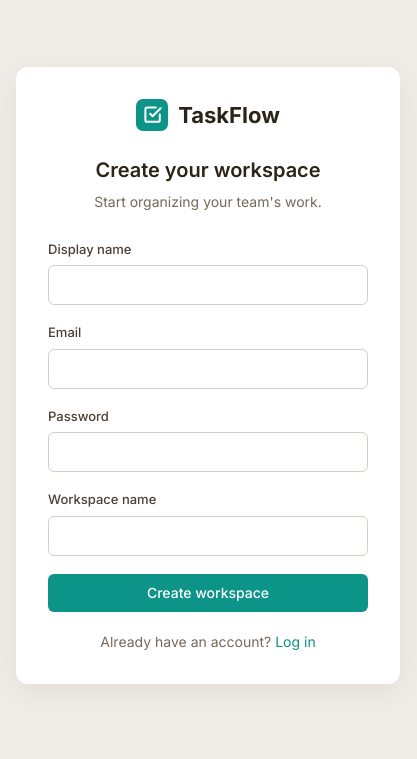
SignupScreen › validates the password length client-side
Type "short" into the password field labelled "Password" at (208, 452), box [48,432,368,472]
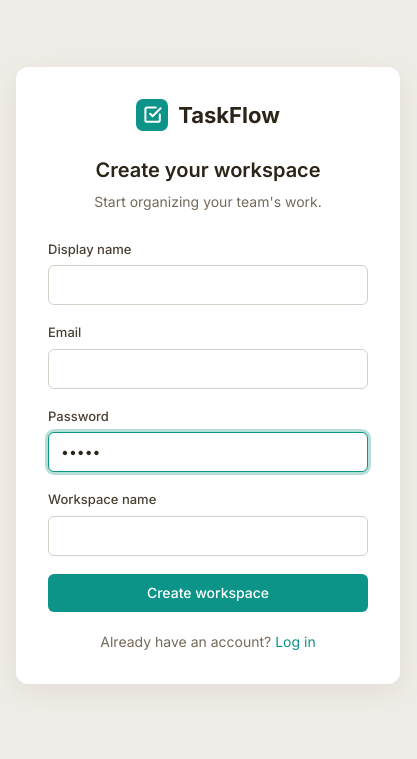
Click the button "Create workspace" at (208, 592), box [48,574,368,612]
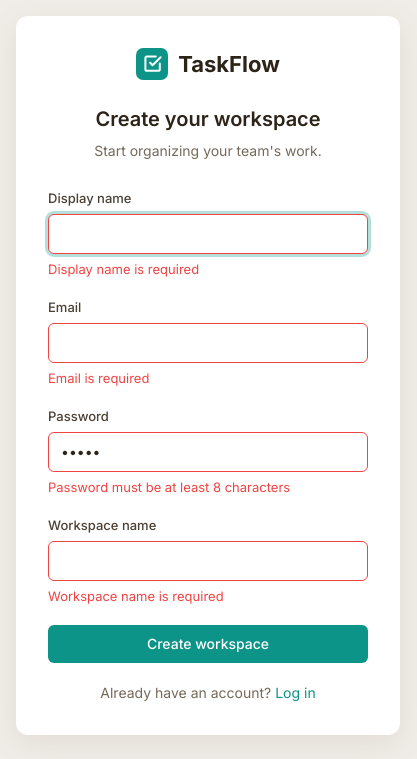
Now the text "Password must be at least 8 characters" is shown, box [48,479,290,495]
